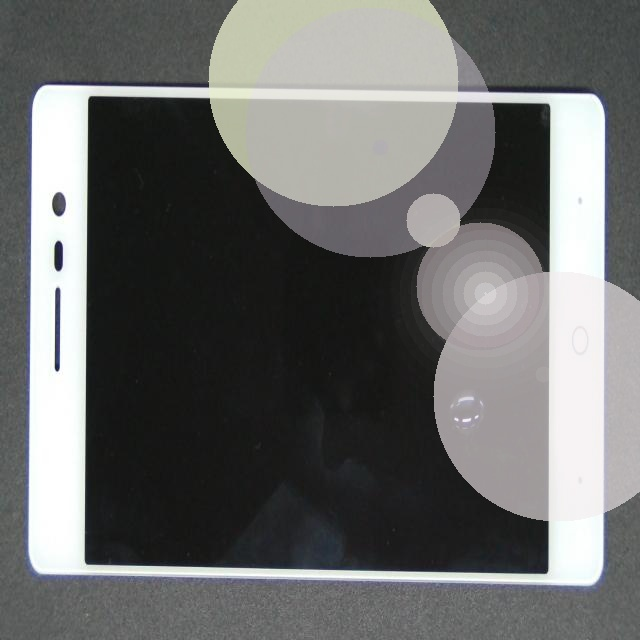oil: (258, 203, 640, 583)
